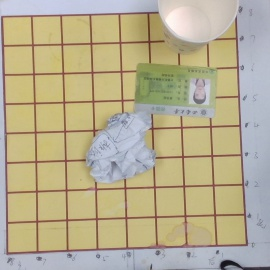card: (133, 62, 217, 117)
cup: (143, 1, 237, 57)
